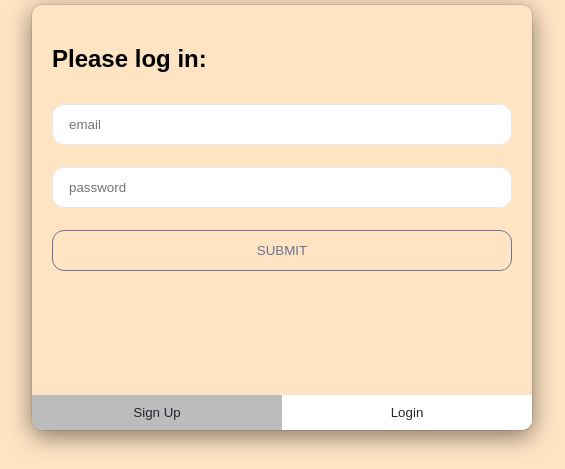
Auth Component › can switch between signup to login view
Click the button "Sign Up" at coordinates (157, 412), box left=32, top=395, right=282, bottom=430
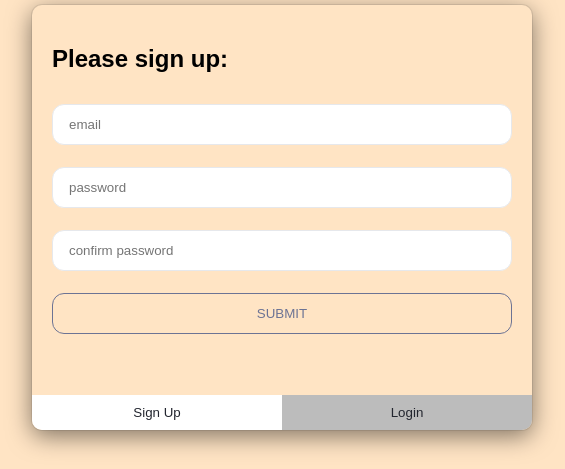
Click the button "Login" at coordinates (407, 412), box left=282, top=395, right=532, bottom=430
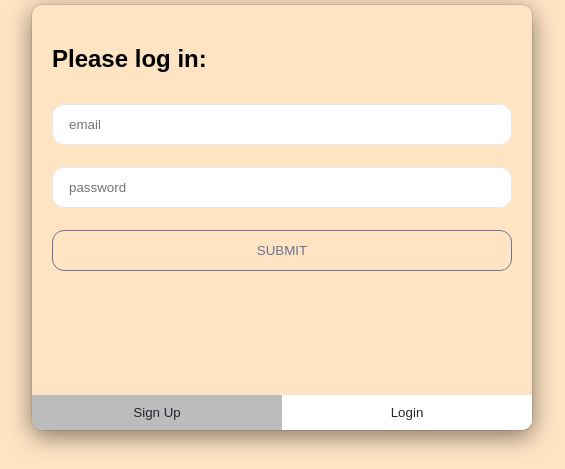
Expected: the heading "Please log in:" is shown, left=52, top=45, right=207, bottom=72
